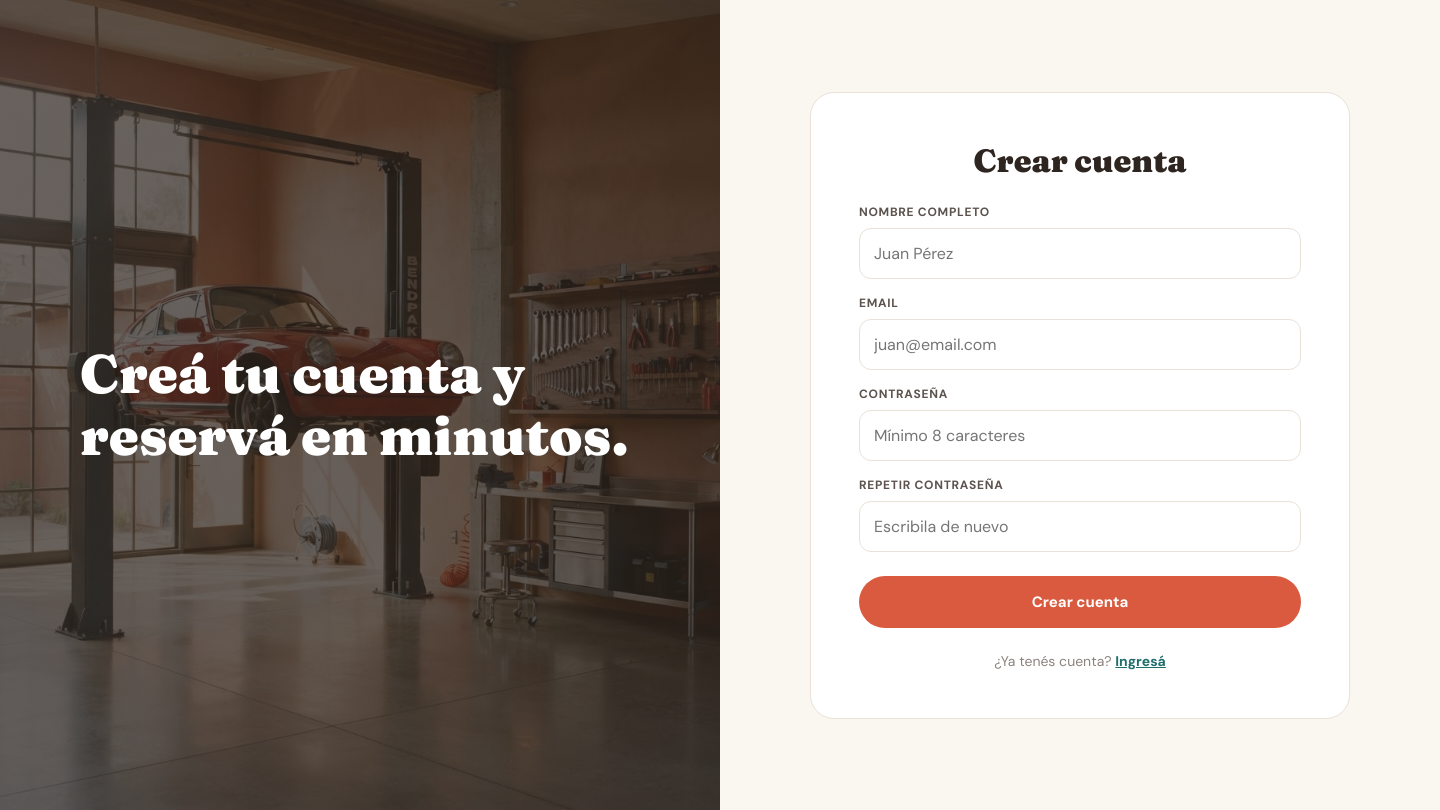
Scenario: Registro e ingreso de cliente › no crea la cuenta si las contraseñas no coinciden
This screenshot has width=1440, height=810.
Step 1. Type "Ana Prueba" into the field labelled "Nombre completo" → x=1080, y=253, box x1=874 y1=242 x2=1286 y2=264
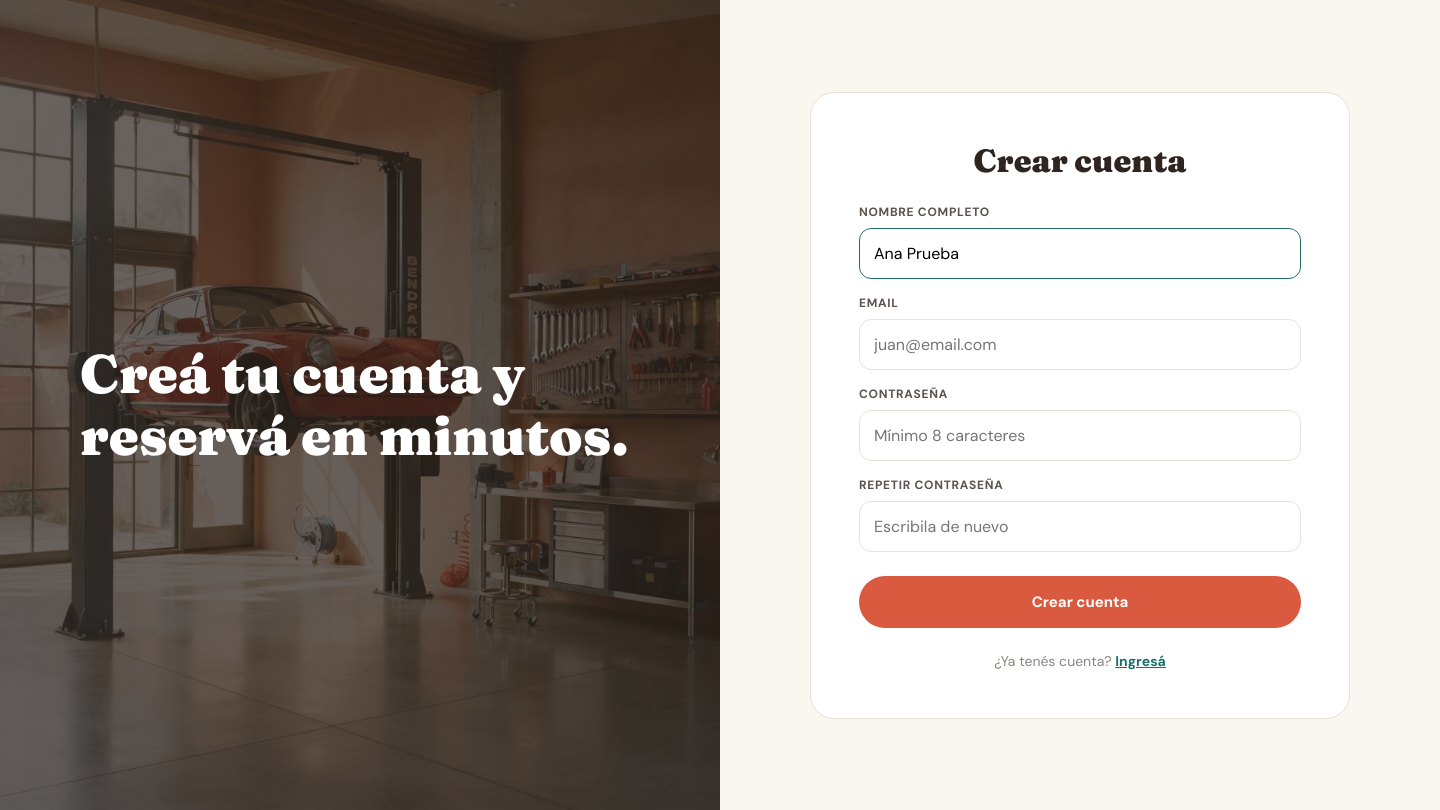
Step 2. Type "ana.prueba@test.com" into the field labelled "Email" → x=1080, y=344, box x1=874 y1=334 x2=1286 y2=354
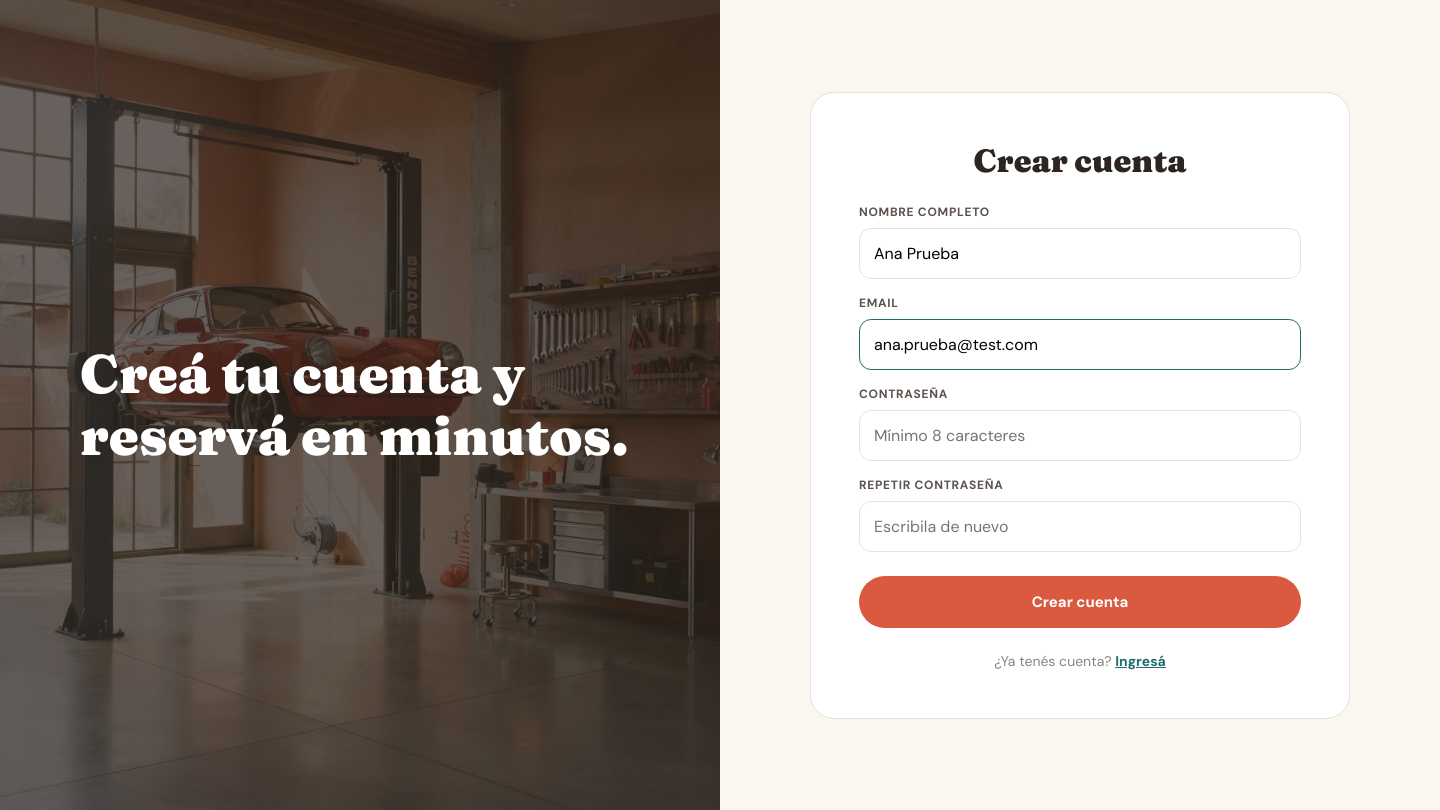
Step 3. Type "Clave1234" into the password field labelled "Contraseña" → x=1080, y=435, box x1=874 y1=424 x2=1286 y2=446
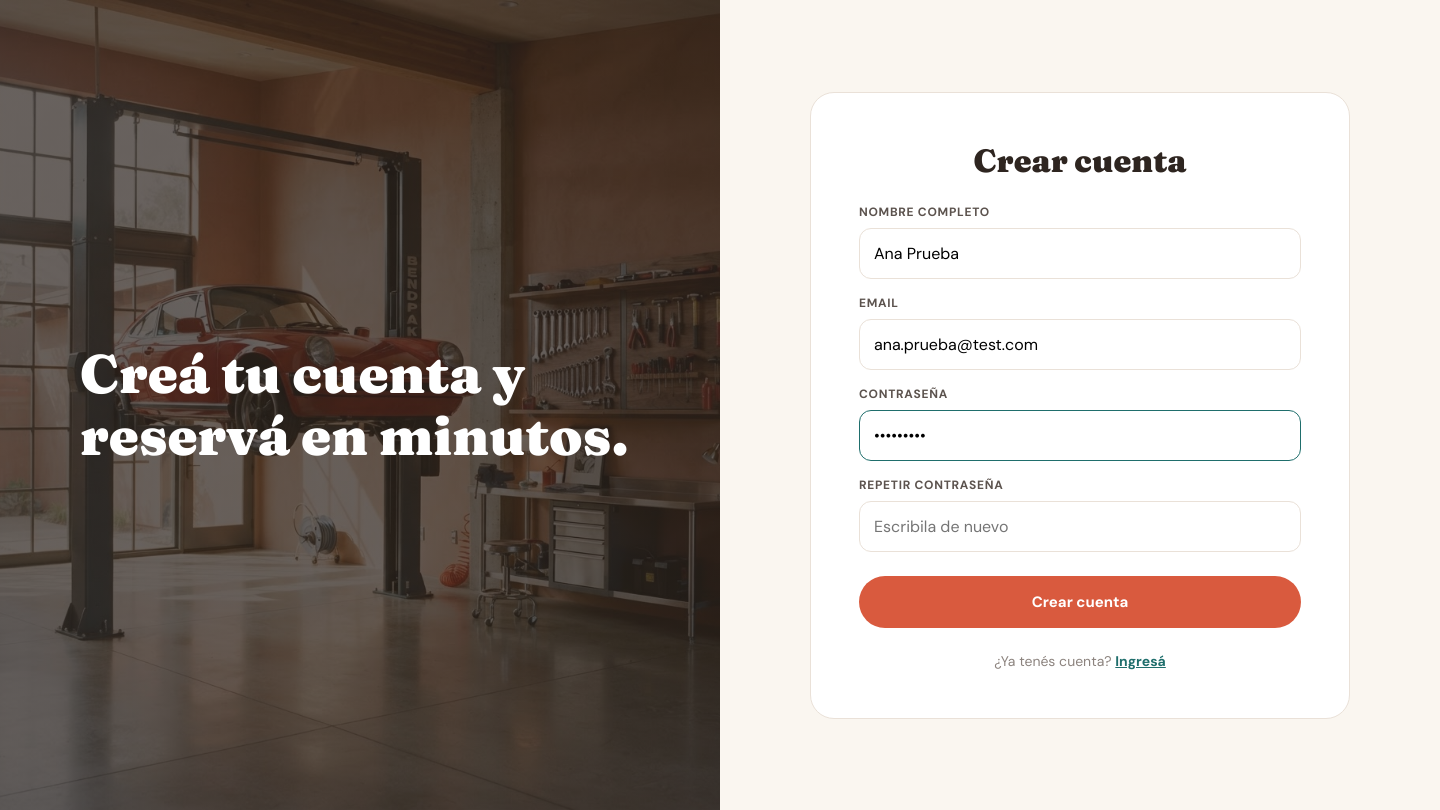
Step 4. Type "OtraClave9" into the password field labelled "Repetir contraseña" → x=1080, y=526, box x1=874 y1=516 x2=1286 y2=536
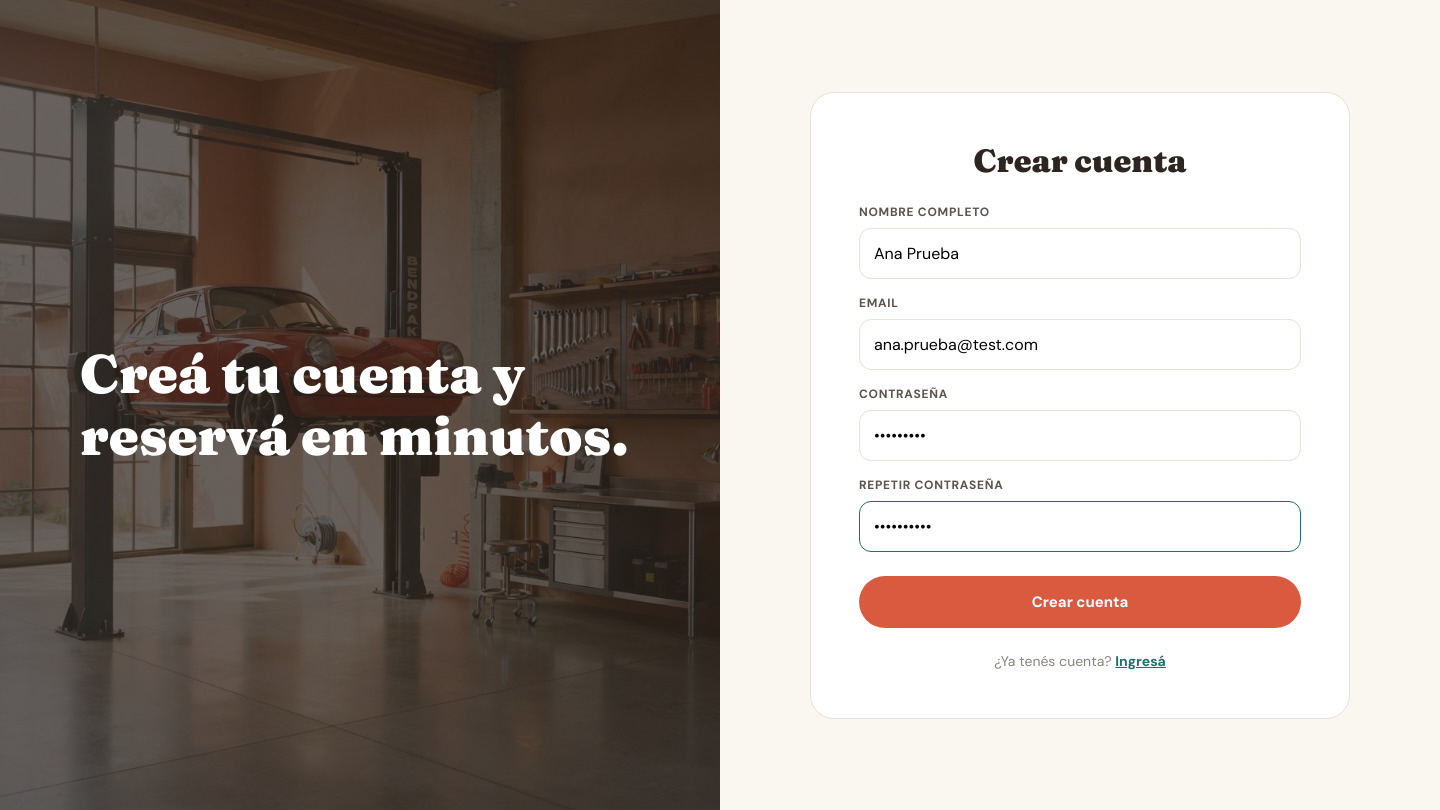
Step 5. Click the button "Crear cuenta" → x=1080, y=602, box x1=859 y1=576 x2=1301 y2=628
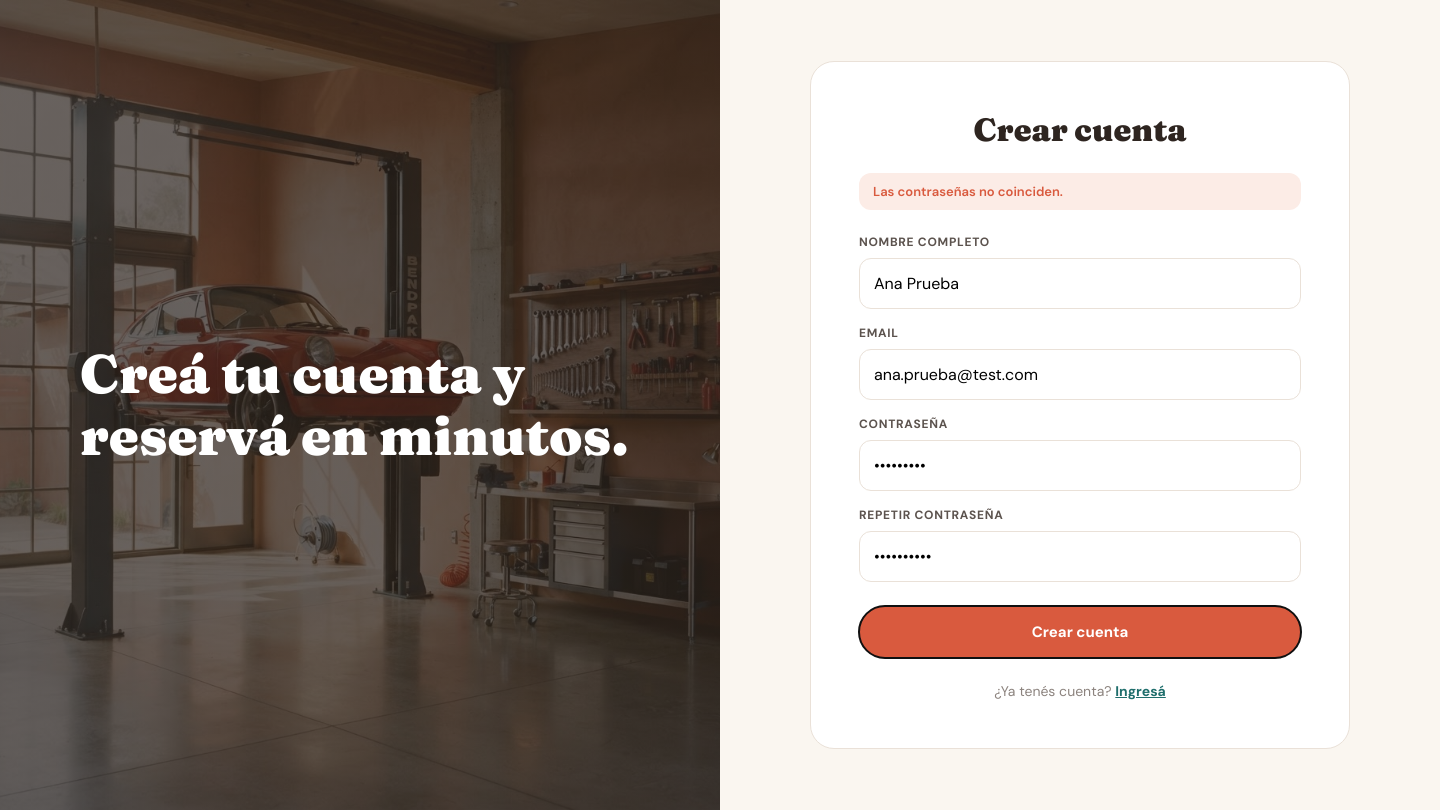
Result: the text "Las contraseñas no coinciden." is shown at x1=859 y1=173 x2=1301 y2=210
